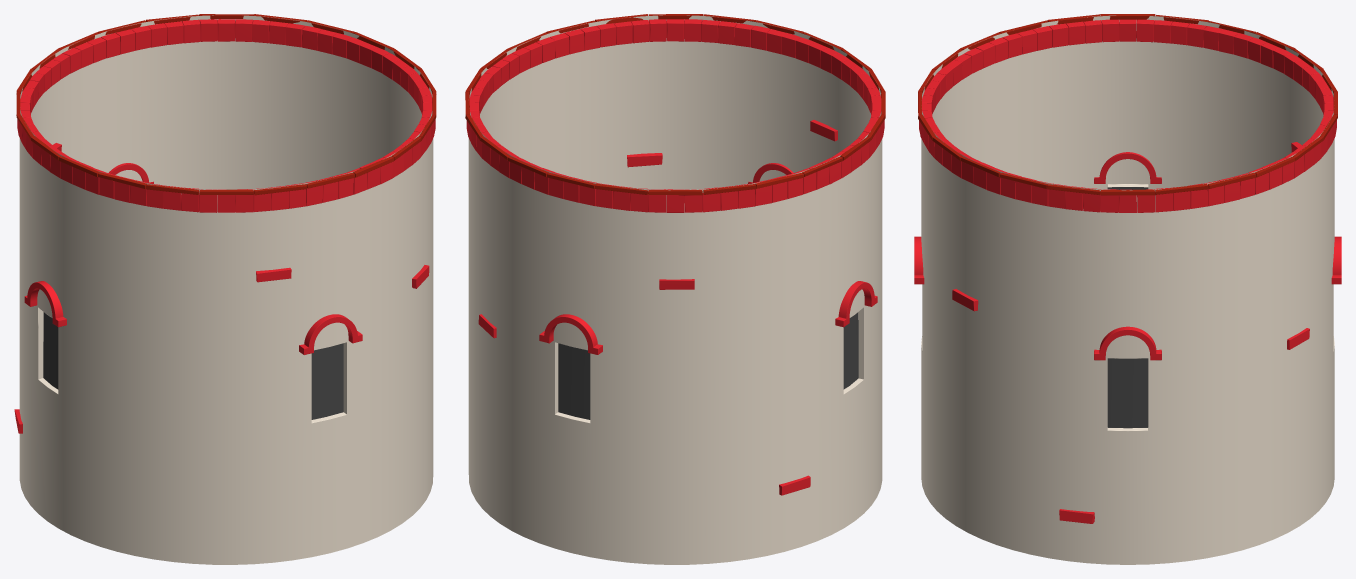
Rendered from towerbase.fbx.
3 views of the same model, side by side, from view 1: azimuth 30°, elevation 25°; view 2: azimuth 150°, elevation 25°; view 3: azimuth 270°, elevation 25° (orthographic).
Visible parts, largest first — view 1: tower base; view 2: tower base; view 3: tower base.
Part boxes in pixels (x1=…): tower base: x1=14, y1=14, x2=436, y2=564; tower base: x1=465, y1=14, x2=885, y2=564; tower base: x1=914, y1=14, x2=1341, y2=564.
Size of the model in its own units: 798 by 773 by 798.
